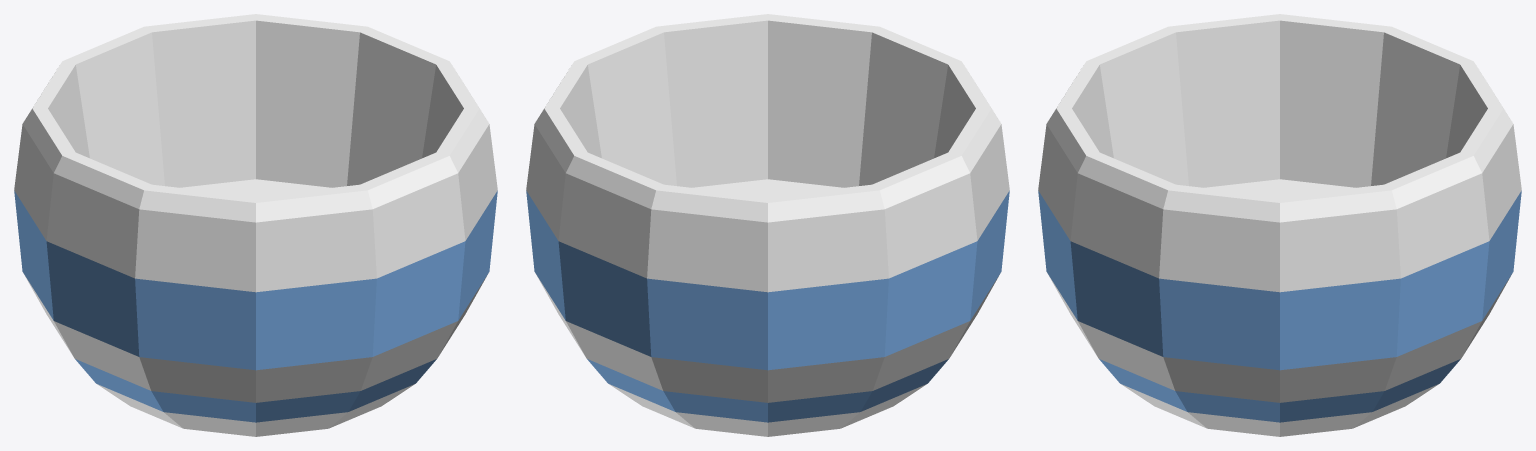
Rendered from Deep Dish_5.fbx.
3 renders of one model, left to right at view 1: azimuth 30°, elevation 25°; view 2: azimuth 150°, elevation 25°; view 3: azimuth 270°, elevation 25°, orthographic.
Visible parts, largest first — view 1: Deep Dish_5; view 2: Deep Dish_5; view 3: Deep Dish_5.
Boxes of the visible parts, x1,y1,x2,y2 form: Deep Dish_5: [14, 14, 497, 436]; Deep Dish_5: [526, 14, 1009, 436]; Deep Dish_5: [1038, 14, 1521, 436].
Size of the model in its own units: 0.1778 by 0.1083 by 0.1778.
